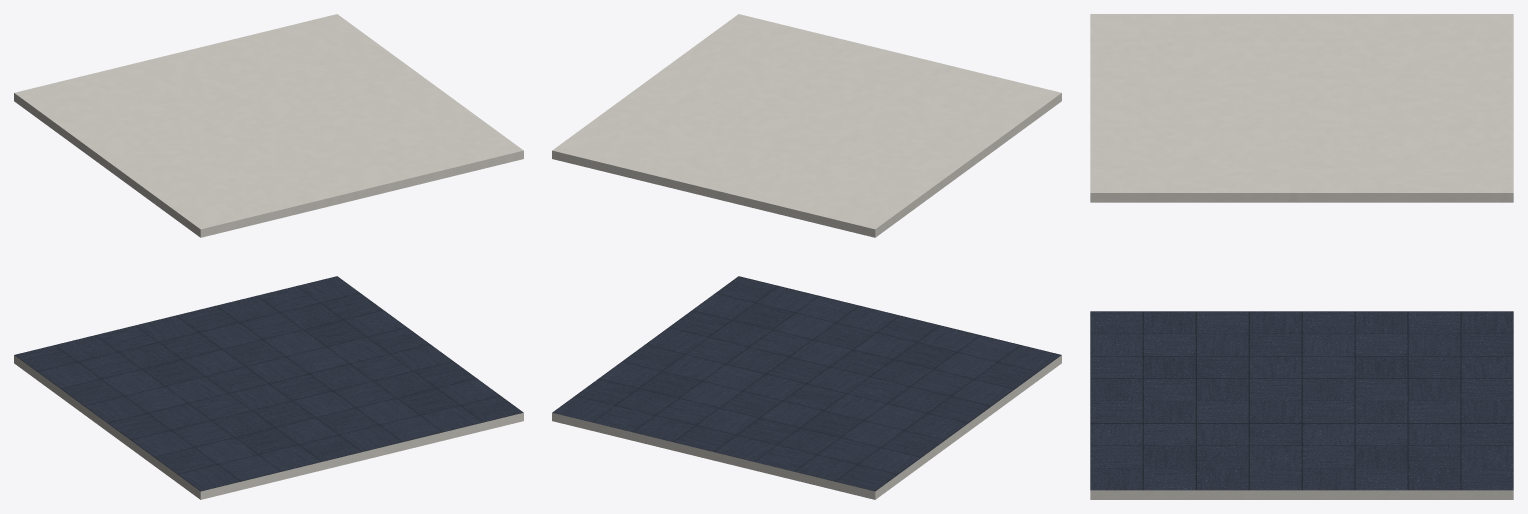
The model's file is Room_Office_Floor.glb.
The picture shows the model from 3 angles, left to right: view 1: azimuth 30°, elevation 25°; view 2: azimuth 150°, elevation 25°; view 3: azimuth 270°, elevation 25°; orthographic projection. The views are drawn at different scales.
Parts seen in each view (by area): view 1: Room_Office_Floor; view 2: Room_Office_Floor; view 3: Room_Office_Floor.
Part boxes in pixels (x1,y1,x2,y2): Room_Office_Floor: (14,14,523,499); Room_Office_Floor: (552,14,1061,499); Room_Office_Floor: (1090,14,1513,499).
Size of the model in its own units: 4 by 3.2 by 4.
Materials: 5 (3 with a texture image).
